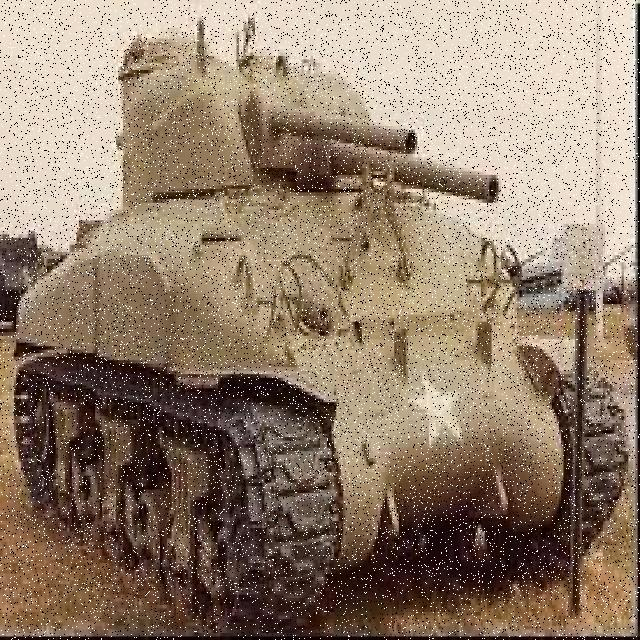MIL_MBT: (15, 12, 613, 593)
